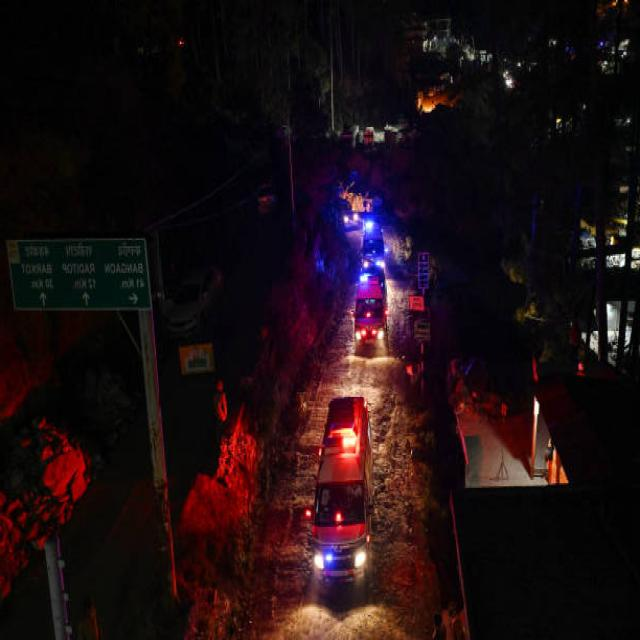ambulance: (306, 395, 376, 593), (344, 267, 386, 356), (356, 210, 386, 260)
